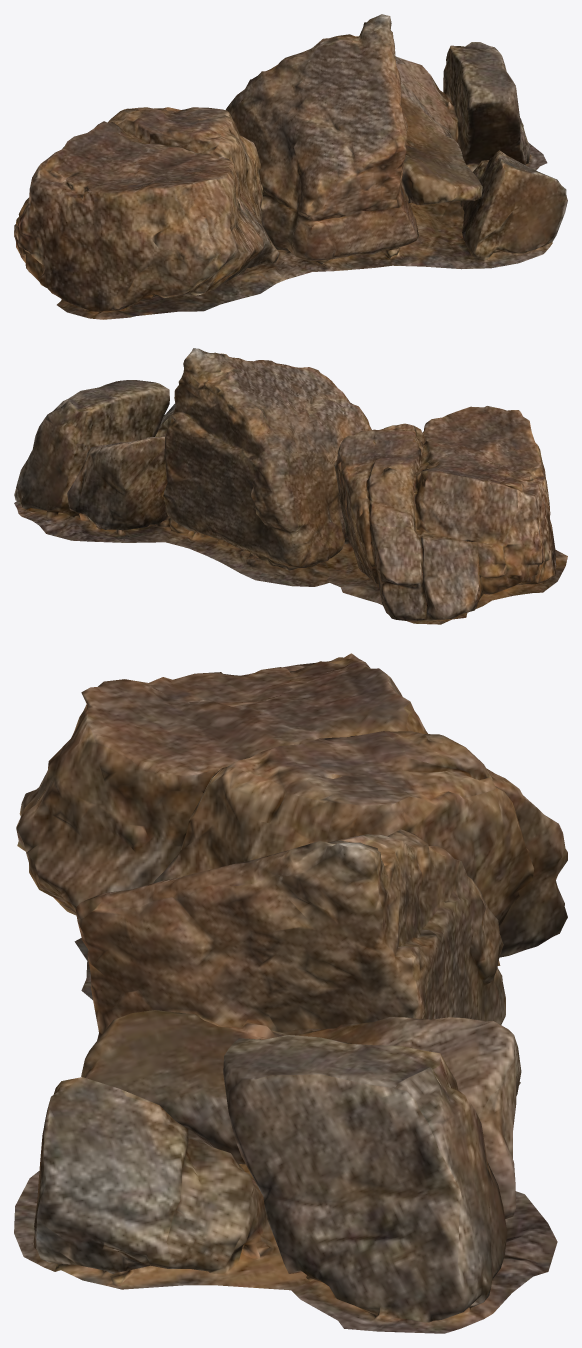
The model's file is desert-boulder.glb.
3 renders of one model, top to bottom at view 1: azimuth 30°, elevation 25°; view 2: azimuth 150°, elevation 25°; view 3: azimuth 270°, elevation 25°, orthographic. The views are drawn at different scales.
Size of the model in its own units: 2.52 by 0.8781 by 1.23.
Materials: 1 (1 with a texture image).
